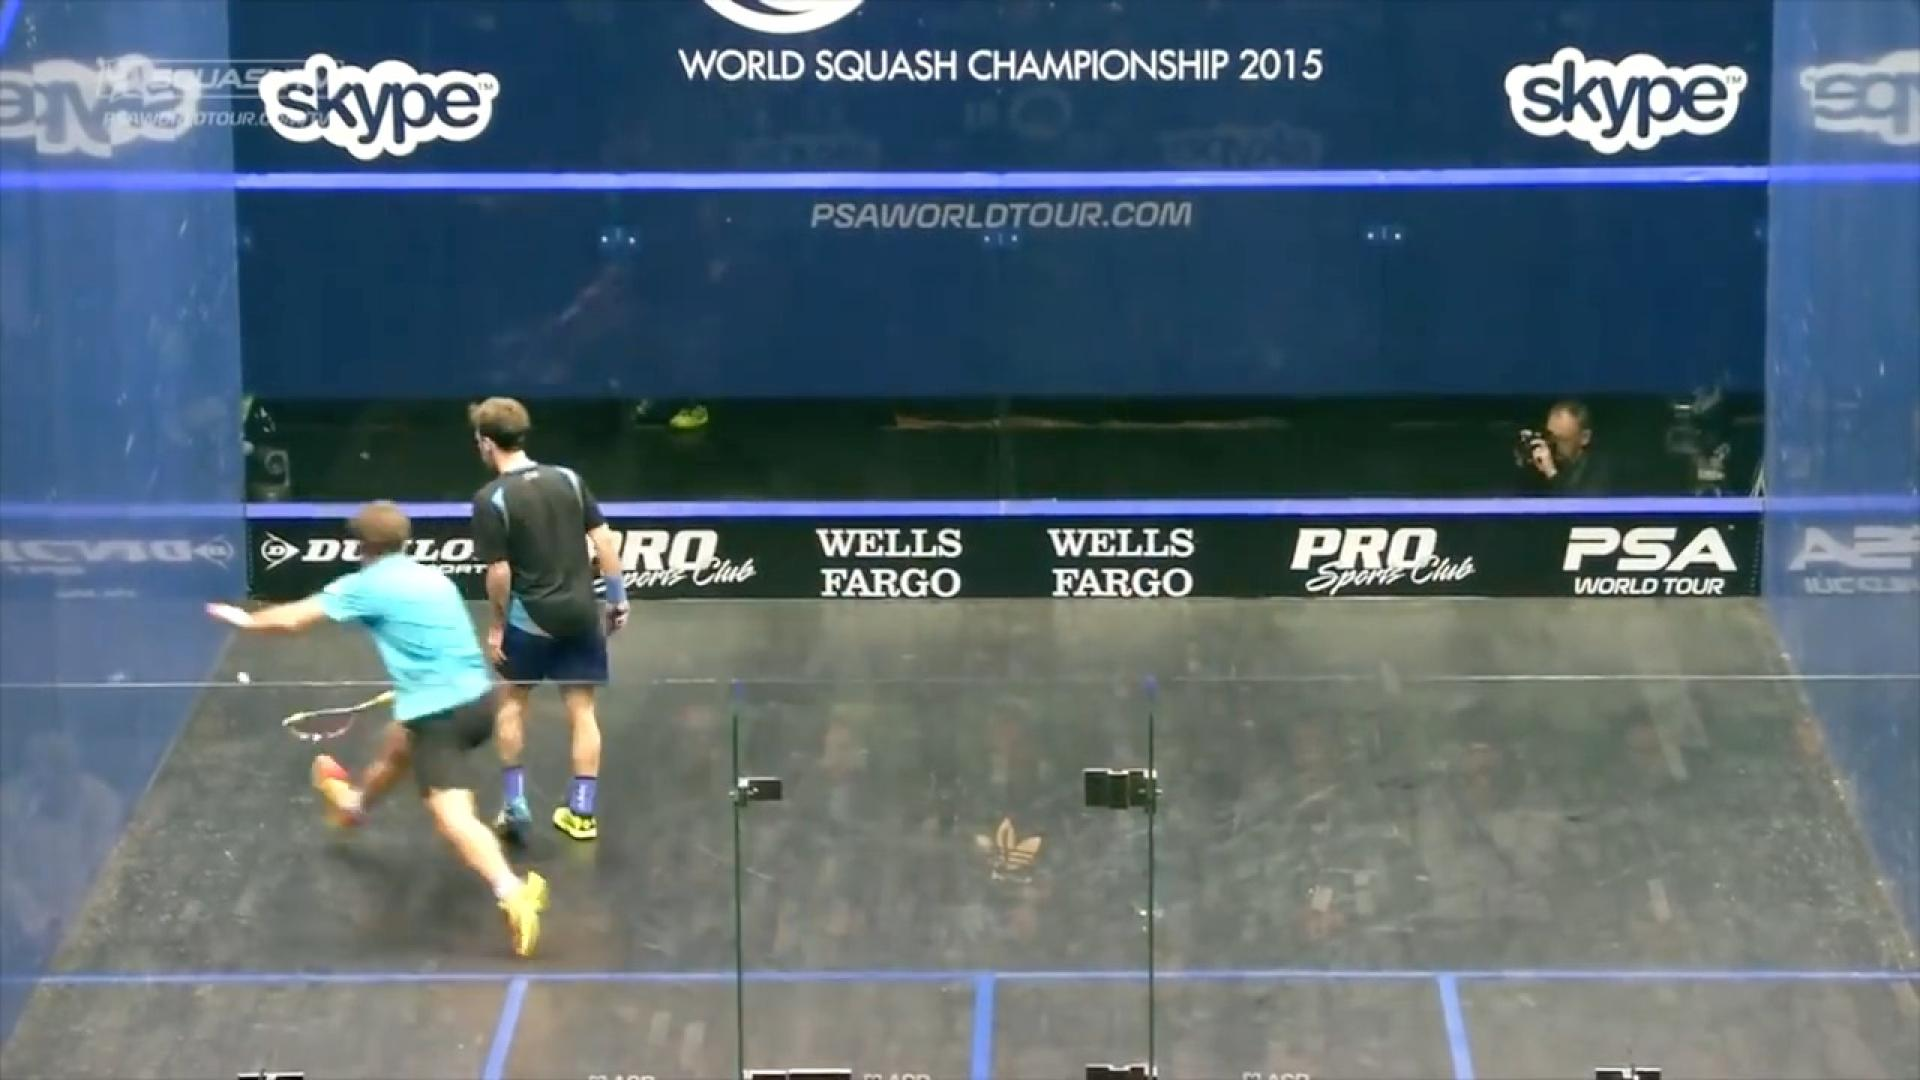Squash-Ball: (225, 659, 262, 705)
